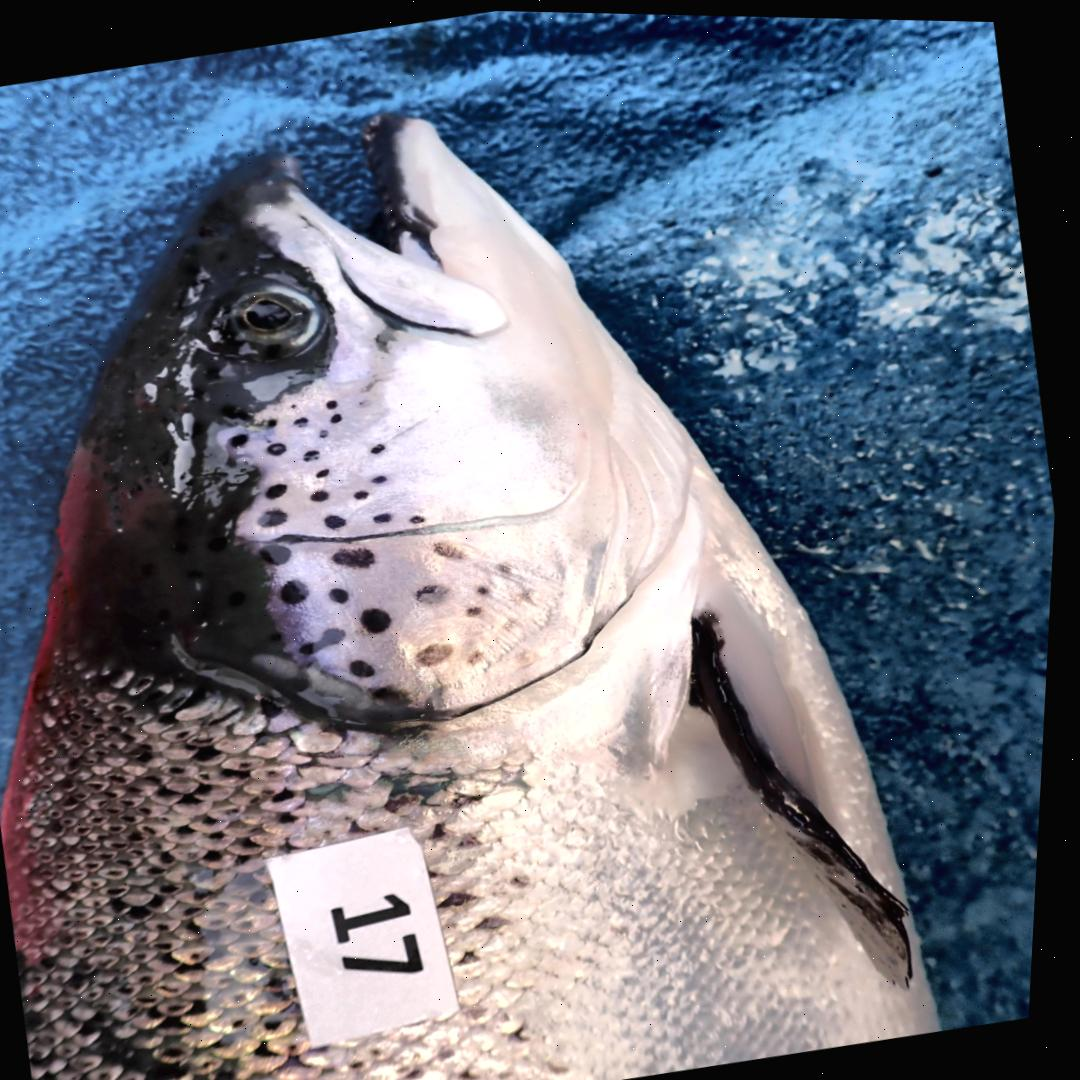spot: (305, 626, 352, 653), (374, 683, 416, 711), (421, 640, 461, 665), (336, 545, 380, 567), (366, 605, 397, 632), (285, 577, 315, 604), (421, 581, 456, 603), (438, 538, 472, 559), (265, 541, 297, 563), (261, 507, 293, 526), (467, 646, 497, 664), (227, 430, 253, 448), (356, 658, 380, 676), (328, 513, 351, 528), (269, 482, 292, 497), (334, 585, 355, 601), (294, 414, 312, 428), (272, 441, 289, 455), (265, 416, 283, 428), (316, 488, 333, 500), (377, 511, 397, 521), (470, 603, 488, 614), (319, 425, 334, 438), (319, 466, 335, 478), (307, 449, 324, 459), (332, 411, 346, 422), (373, 443, 390, 452), (503, 561, 517, 571), (414, 513, 429, 522), (359, 489, 373, 498), (377, 473, 391, 482), (329, 398, 341, 407), (482, 583, 494, 592), (292, 402, 300, 407)
